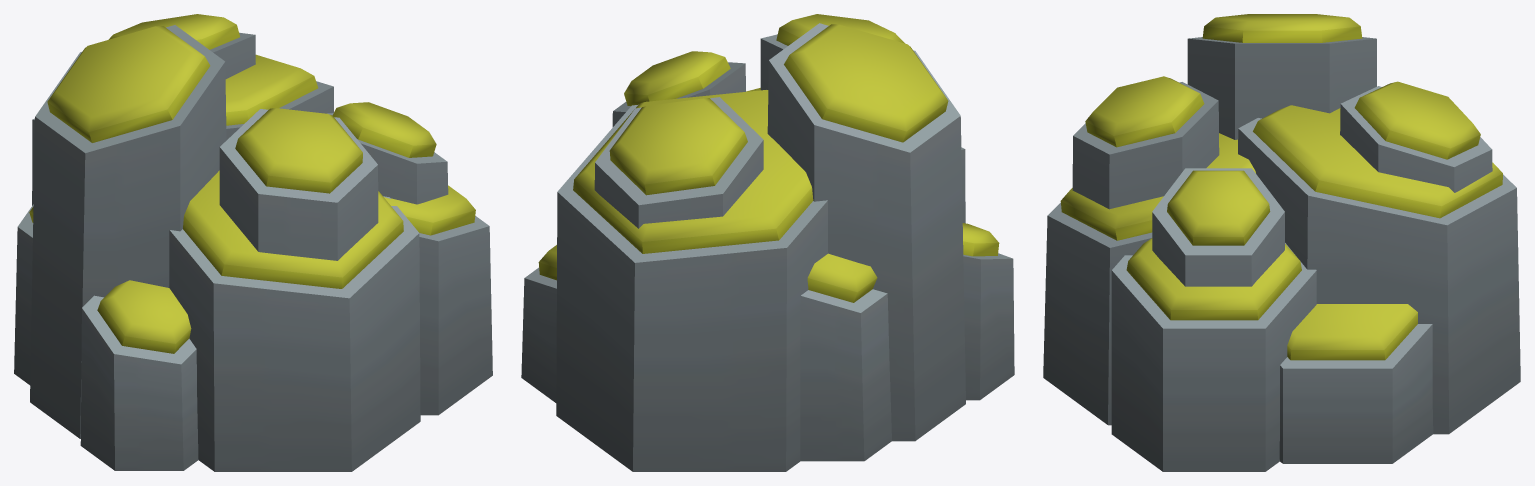
File: mountain_c_grass.glb
The picture shows the model from 3 angles, left to right: view 1: azimuth 30°, elevation 25°; view 2: azimuth 150°, elevation 25°; view 3: azimuth 270°, elevation 25°; orthographic projection. The views are drawn at different scales.
Parts seen in each view (by area): view 1: mountain_C_grass; view 2: mountain_C_grass; view 3: mountain_C_grass.
Boxes of the visible parts, x1,y1,x2,y2 form: mountain_C_grass: [14, 14, 492, 471]; mountain_C_grass: [521, 14, 1014, 471]; mountain_C_grass: [1043, 14, 1520, 471].
Bounding box in the file's own units: 1.76 × 1.55 × 2.02.
Materials: 1 (1 with a texture image).
